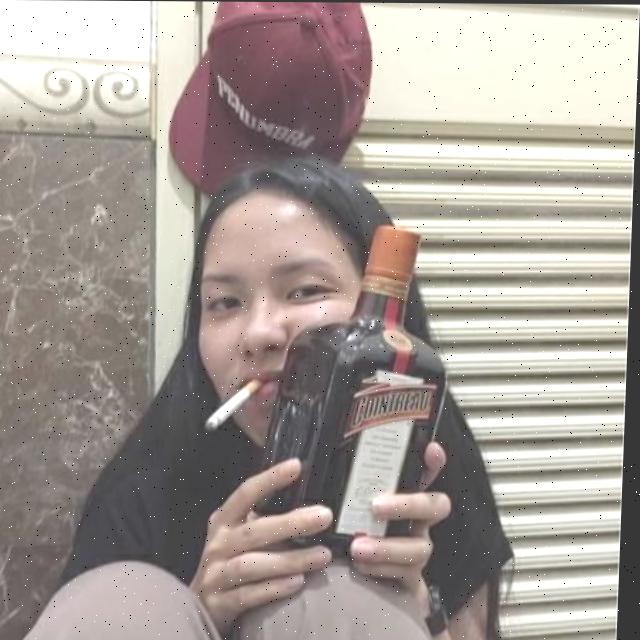cigarette: (208, 378, 267, 431)
